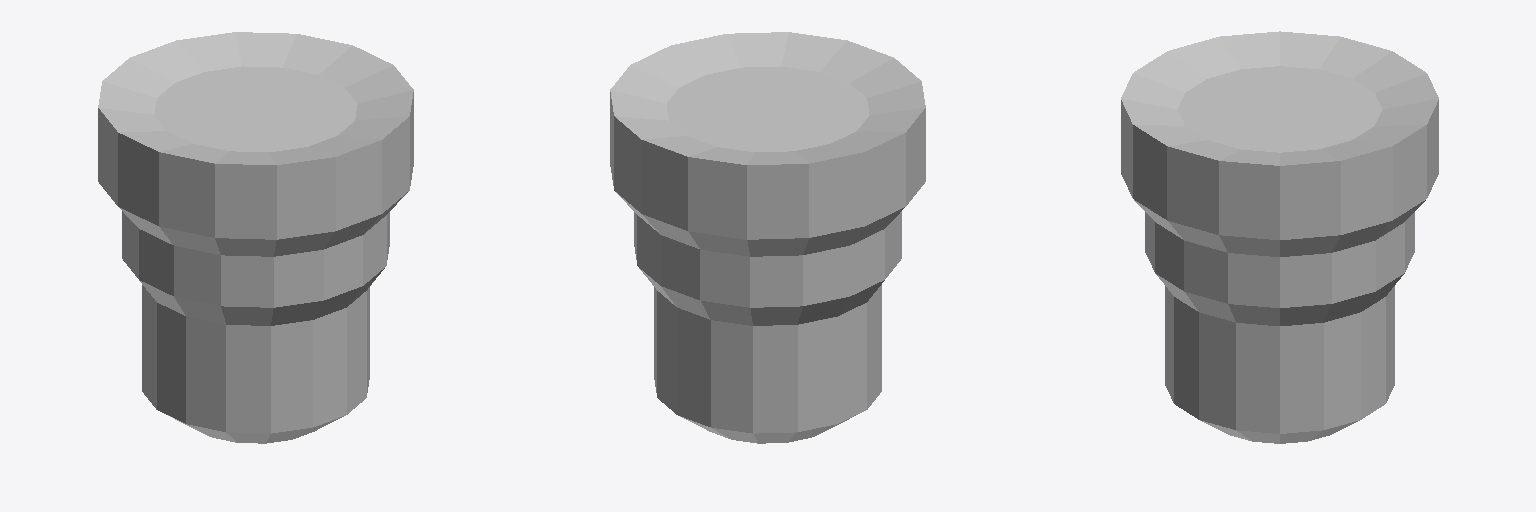
File: spotlight.obj
3 renders of one model, left to right at view 1: azimuth 30°, elevation 25°; view 2: azimuth 150°, elevation 25°; view 3: azimuth 270°, elevation 25°, orthographic.
Visible parts, largest first — view 1: Cylinder.004; view 2: Cylinder.004; view 3: Cylinder.004.
Part boxes in pixels (left/top/right/bottom): Cylinder.004: left=98, top=32, right=413, bottom=443; Cylinder.004: left=610, top=32, right=925, bottom=443; Cylinder.004: left=1121, top=31, right=1438, bottom=443.
Size of the model in its own units: 1.02 by 1.11 by 1.02.